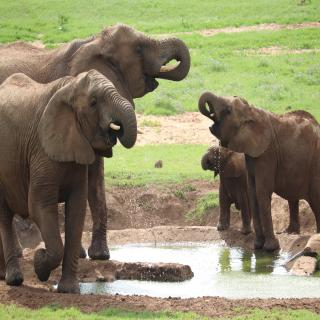Elephant: (0, 16, 192, 265), (0, 69, 140, 298), (198, 88, 320, 253)
